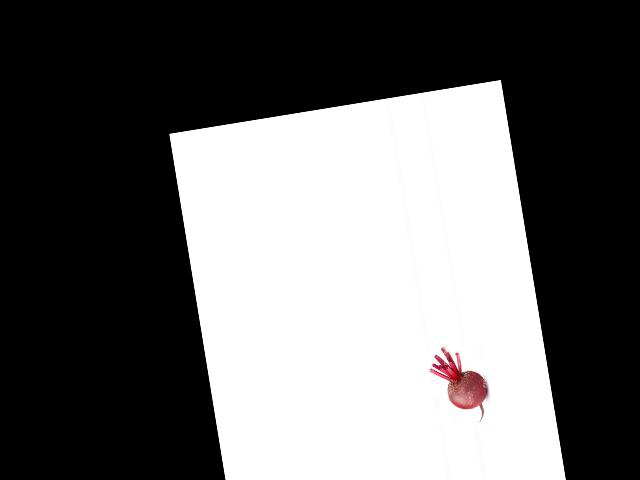beet: (426, 341, 491, 428)
